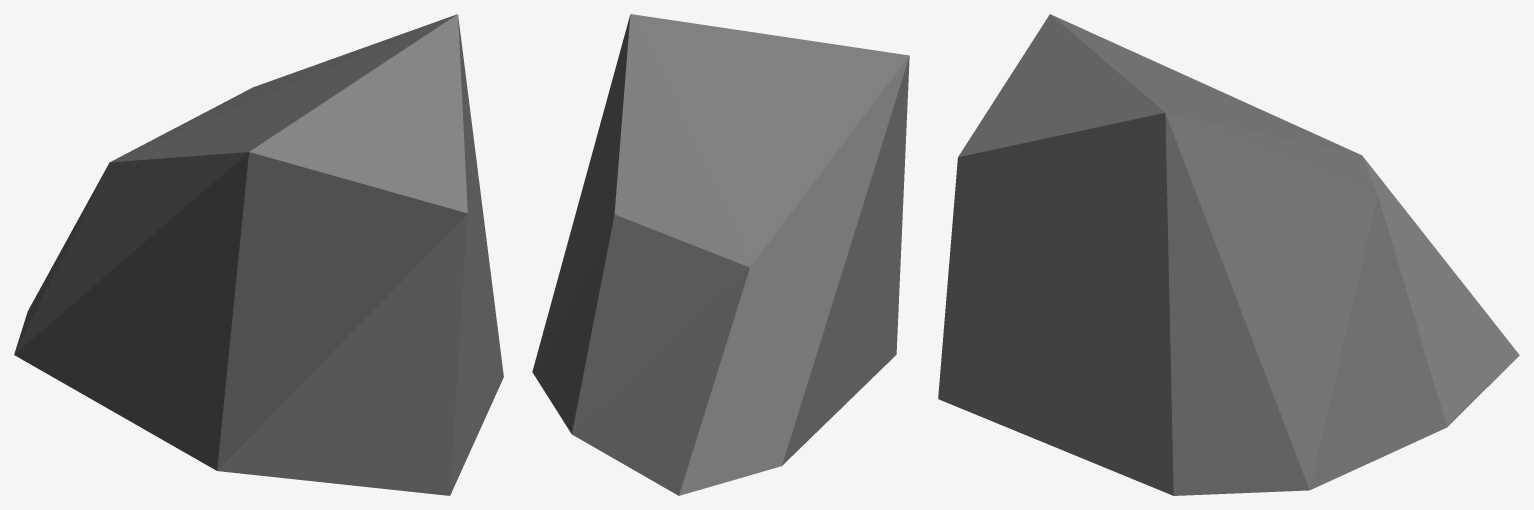
File: rock2.fbx
3 renders of one model, left to right at view 1: azimuth 30°, elevation 25°; view 2: azimuth 150°, elevation 25°; view 3: azimuth 270°, elevation 25°, orthographic. The views are drawn at different scales.
Visible parts, largest first — view 1: Cylinder024; view 2: Cylinder024; view 3: Cylinder024.
Boxes of the visible parts, <box> form: Cylinder024: <box>14,14,503,495</box>; Cylinder024: <box>532,14,909,495</box>; Cylinder024: <box>938,14,1519,495</box>.
Size of the model in its own units: 91.91 by 91.88 by 135.
